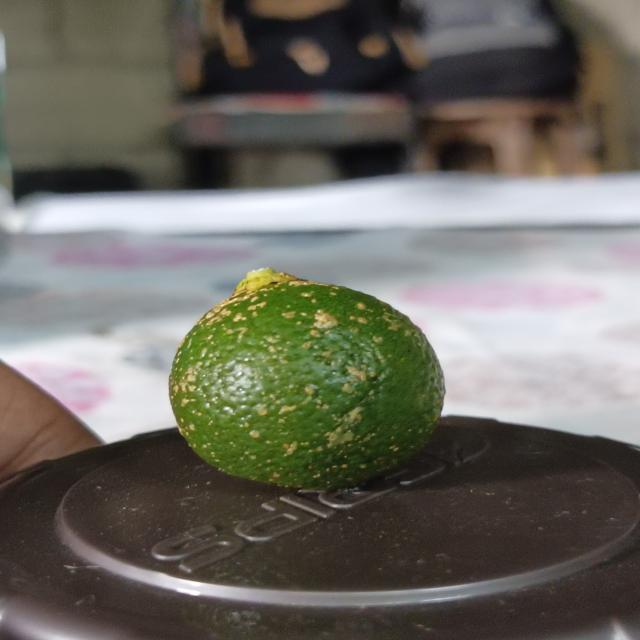scab: (162, 270, 448, 495)
